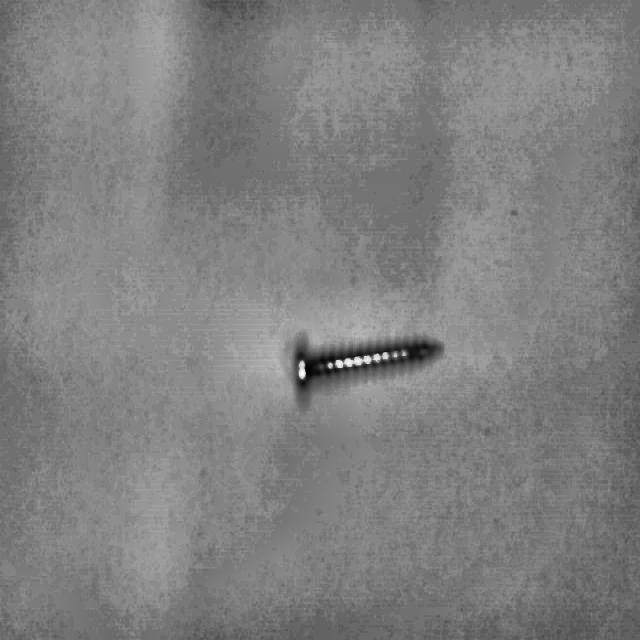Sheet metal screw: (294, 339, 441, 385)
